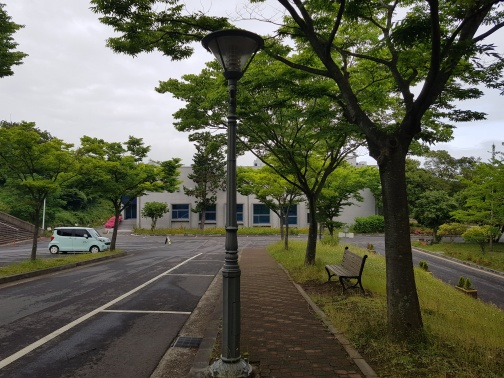College of Social Sciences: (110, 156, 342, 242)
